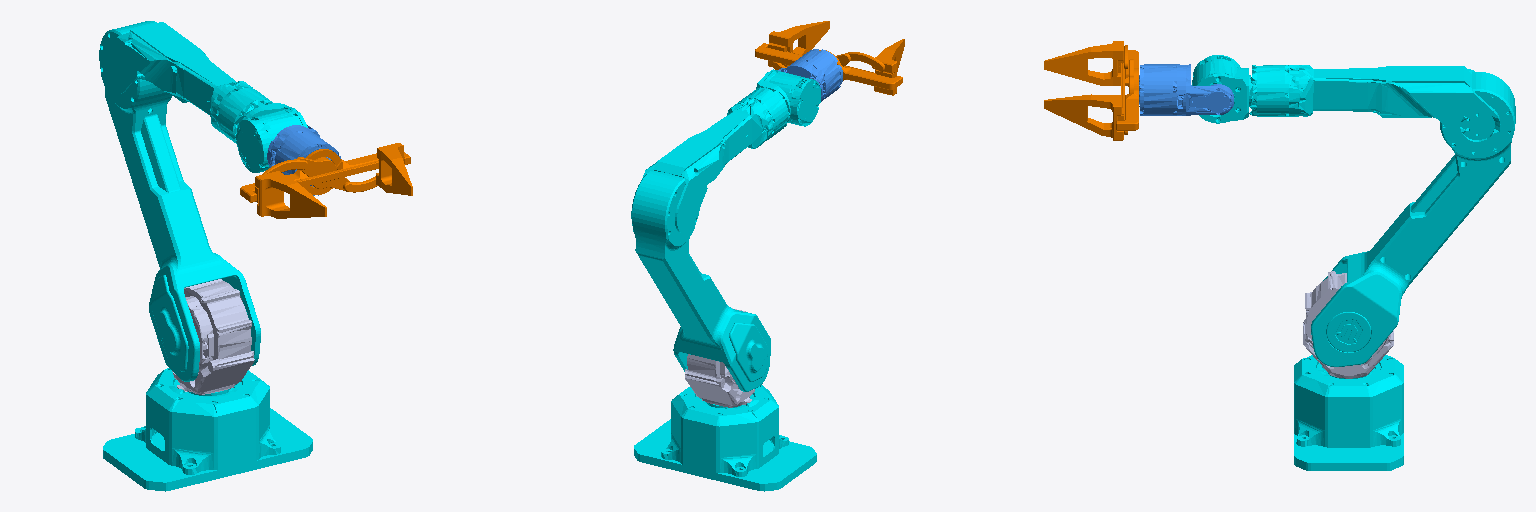
The robot description file, URDF, robot "URDF_armv001_a3tip":
<?xml version="1.0" encoding="utf-8"?>
<!--
  ============================================================================
  URDF_armv001_a3tip —— 自研六轴臂 + EDULITE_A3 末端（一体化末端）
  ============================================================================
  来源
  ────
  臂本体： F:\Robot\URDF_robot\DeepDiaryRos\src\URDF_armv001\urdf\URDF_armv001.urdf
          （SolidWorks 导出，原文件保持不动，本文件是它的本地副本）
  末端：   F:\Robot\URDF_robot\EDULITE_A3\el_a3_sdk\resources\urdf\el_a3.urdf

  实机结构（本文件的建模依据）
  ────────────────────────────
  实机 = 5 个臂关节 + 1 个夹爪，共 6 个电机，末端到 fifth_Link 为止：
    ID1 base_link → ID2 first_Link → ID3 second_Link
    → ID4 third_Link → ID5 fourth_Link → ID6 夹爪(第五轴上挂 EL05 总成 + jaw)

  为什么要改
  ──────────
  1. 原 URDF 有 6 个 revolute 关节，其中 `sixth_joint`（±3.14 rad 的"腕部旋转"）
     在实机上**没有对应电机**，属于多余自由度，会让 joint_map 无法唯一确定。
  2. 首版替换把 A3 末端拆成 `fifth_Link` + `a3_l6_motor` + `a3_gripper_jaw`
     三个体块，渲染出来末端会看到 3 个"电机"（绿=fifth_Link、红=EL05 圆柱、
     橙=夹爪），比实机多 2 个。

  改了什么（2026-09-29 第二次修正：末端只留"6 号电机"）
  ──────────────────────────────────────────────────
  · 删除 `sixth_joint` / `sixth_Link`（实机无此自由度）
  · 删除 `a3_l6_motor` link（渲染里的红色 EL05 圆柱，"7 号电机"）与其 fixed 关节
    `tip_mount_joint`
  · 删除 `a3_gripper_jaw` link（"8 号电机"）与其 fixed 关节 `a3_gripper_joint`
  · **保留 `fifth_Link`**（"6 号电机"，实机 ID5 腕部机体）：它仍是本 URDF 的末端
    link，`fifth_joint` 的 child 就是它，origin/axis/limit 与原始 URDF 完全一致
  · 夹爪几何 `jaw.stl` 并入 `fifth_Link`，作为本 link 的第二个 visual/collision：
    由原厂装配位置沿 −Y 平移 0.106 m（即被删掉的 EL05 圆柱长度），
    直接贴在腕部机体末端，视觉上连续、不再悬空
  · `fifth_Link` 的惯性 = 原 fifth_Link(0.37 kg) + EL05 电机(0.657292 kg)
    + 夹爪(0.05 kg) 的合并值（并行轴定理），合计 1.077292 kg
  · 末尾补一个**无 mesh、无质量**的隐藏 link `tool_tcp`（`fifth_Link` 下、fixed
    关节）：它只为笛卡尔逆解提供一个工具坐标系，渲染里不出现、不增加任何机体

  ⚠️ 已知近似
  ──────────
  · EL05 末端电机那 0.657 kg **仍计入质量**：实机上它是 ID6 夹爪的驱动电机、
    确实存在，这里只删掉它的渲染网格；若连质量一起删，ID3/ID5 的重力前馈
    会严重低估。
  · 夹爪开合（ID6）不建模：开合对 ID2/ID3 的重力力矩影响 ≤0.06 N·m，
    且 ID6 不参与重力补偿映射。
  · 末端相机、线缆、紧固件的质量仍**未计入**，真实 ID3 重力需求可能比本文件更大。
  · URDF 惯量是厂商标称理论值 + 合并近似，最终必须用 `arm_control.gravity` 的
    静态辨识（StaticGravityIdentifier）以实机力矩反馈重新标定。

  改了什么（2026-10-11 第三次修正：ID2→ID3 机体换真实 arm_v002b）
  ──────────────────────────────────────────────────────────────
  来源：f:\Robot\岳强机械臂装配体1.STEP（STEPCAFControl 组件树解析，cad env）。
  旧 URDF 把 ID2→ID3 之间的机体理想化了，与真实装配不符；现按真实支架修正：

  · 几何实测（arm_v002b 局部系，两关节孔均沿局部 Z、孔簇与全局轴线重合 ≤0.002mm）：
      - ID2 孔轴过局部 (−280,−35)、ID3 孔轴过局部 (0,0)；
      - ID2→ID3 垂距 D = 282.179 mm（旧 URDF 306.71 mm，差 −24.5 mm）；
      - 折叠位（q2=+1.491, q3=−1.084，其余 0）实测 TCP z≈0.135~0.142，
        拟合得 ID2→ID3 向量仰角 α = 30.0°（旧 32.76°）——设计圆整值与实测互证。
  · `third_joint` origin：xyz 由 (0, 0.165990, 0.257914) 改为
    (0, 0.141086, 0.244377)；rpy=0、axis=(−1,0,0) **保持不变**（两孔轴平行，
    与原 axis 一致）。
  · `second_Link` visual/collision 换为真实支架网格 `arm_v002b.stl`
    （12647 面，单位 m，v002b 局部坐标系）；visual origin 把 ID2 孔轴对到
    link 转轴（x 轴）、ID3 孔对到 third_joint 原点。
  · **惯性未动**：mass/CoM 仍为旧值 0.966 kg——真实件为 v002+v002b 对板
    （合计 258 cm³），材质未确认，留待 α 重辨识吸收/复核。
  · 关节链拓扑、其余关节、tool_tcp 保持不变。

  改了什么（2026-10-11 第三次修正补充：second_Link 换四零件整体网格）
  ──────────────────────────────────────────────────────────────
  用户更正：ID2→ID3 之间的第二关节臂由 4 个零件组成一个整体
  （① 一轴轴承盖 ② arm_v002b ③ arm_v002 ④ 二轴螺钉盖2），
  之前只导出 arm_v002b 单件做 mesh 是错的。已按 BOM 从 STEP 重新导出
  `second_arm_asm.stl`（四件统一到 v002b 局部系合成 compound，41047 面、
  米制）；装配态复测 D = 282.1790mm 与单件一致 → third_joint origin 与
  second_Link visual origin 的 xyz/rpy 全部不变，仅 mesh 文件名更换。
  详见 second_Link 处注释。

  ⚠️ 后果（必做后续）：① 重力 α 必须再次重辨识（sign_identify 的 record 与
  solve 两步，只取 scale）；② m0 锚点需用折叠位 FK 复核；③ 软限位表如需调整单独立项。
  ============================================================================

  本文件只需惯性信息即可被 Pinocchio 加载；visual/collision 仅为可读性保留。
  ============================================================================
-->
<robot
  name="URDF_armv001_a3tip">
  <link
    name="base_link">
    <inertial>
      <origin
        xyz="0.00012503 1.4745E-05 0.026752"
        rpy="0 0 0" />
      <mass
        value="1.81" />
      <inertia
        ixx="0.00055145"
        ixy="1.5556E-06"
        ixz="1.4779E-06"
        iyy="0.0010327"
        iyz="8.2802E-08"
        izz="0.0014616" />
    </inertial>
    <visual>
      <origin
        xyz="0 0 0"
        rpy="0 0 0" />
      <geometry>
        <mesh
          filename="meshes/base_link.STL" />
      </geometry>
      <material
        name="">
        <color
          rgba="0 0.94118 0.98824 1" />
      </material>
    </visual>
    <collision>
      <origin
        xyz="0 0 0"
        rpy="0 0 0" />
      <geometry>
        <mesh
          filename="meshes/base_link.STL" />
      </geometry>
    </collision>
  </link>
  <link
    name="first_Link">
    <inertial>
      <origin
        xyz="0.0019709 -3.7688E-05 0.045814"
        rpy="0 0 0" />
      <mass
        value="1.05" />
      <inertia
        ixx="0.00020197"
        ixy="-1.66E-08"
        ixz="2.2663E-07"
        iyy="0.0001125"
        iyz="7.8462E-08"
        izz="0.0001431" />
    </inertial>
    <visual>
      <origin
        xyz="0 0 0"
        rpy="0 0 0" />
      <geometry>
        <mesh
          filename="meshes/first_Link.STL" />
      </geometry>
      <material
        name="">
        <color
          rgba="0.79216 0.81961 0.93333 1" />
      </material>
    </visual>
    <collision>
      <origin
        xyz="0 0 0"
        rpy="0 0 0" />
      <geometry>
        <mesh
          filename="meshes/first_Link.STL" />
      </geometry>
    </collision>
  </link>
  <joint
    name="first_joint"
    type="revolute">
    <origin
      xyz="0 0 0.0785000000000001"
      rpy="0 0 0" />
    <parent
      link="base_link" />
    <child
      link="first_Link" />
    <axis
      xyz="0 0 1" />
    <limit
      lower="-3.14"
      upper="3.14"
      effort="160"
      velocity="20.417" />
  </joint>
  <link
    name="second_Link">
    <inertial>
      <!-- 2026-10-11：惯性保留旧值（0.966 kg，旧支架标称）；真实件为
           arm_v002+v002b 对板（合计 258 cm³），材质未确认——质量/CoM 的修正
           由重力 α 重辨识（StaticGravityIdentifier）吸收，勿在此手工乱改。 -->
      <origin
        xyz="0.000857573444558835 0.0776042459103315 0.130616624503666"
        rpy="0 0 0" />
      <mass
        value="0.966" />
      <inertia
        ixx="0.00246169175712987"
        ixy="7.15160471159471E-06"
        ixz="1.14970999493612E-05"
        iyy="0.00149301141014258"
        iyz="-0.00107551298210178"
        izz="0.0010159642390867" />
    </inertial>
    <!-- 2026-10-11：几何换真实支架四零件整体 second_arm_asm（STEP 实测）。
         来源：f:\Robot\岳强机械臂装配体1.STEP，ID2→ID3 之间的第二关节臂由
         4 个零件组成一个整体（PRODUCT 名自 STEP 解码验证）：
           ① 一轴轴承盖（NAUO26，贴合 v002b 板底面、ID2 轴负向侧）
           ② arm_v002b（NAUO6，基准板：ID3 孔轴过局部 (0,0)、ID2 过 (−280,−35)）
           ③ arm_v002（NAUO5，与 v002b 对扣的上板）
           ④ 二轴螺钉盖2（NAUO28，孔与 ID2 轴同轴 ≤0.0001mm，轴向 +58mm 处）
         四件统一到 v002b 局部系后合成 compound 导出（41047 三角形、米制）；
         装配态复测 ID2/ID3 孔轴垂距 D = 282.1790mm（与单件 v002b 一致，
         偏差 +0.0000mm）。
         visual origin 的作用：把 v002b 局部系的 ID2 孔轴（过局部 (−280,−35)、
         沿局部 Z）对到本 link 的转轴（x 轴），同时把 ID3 孔轴（过局部 (0,0)）
         对到 third_joint 原点——因此 xyz 的 yz 分量恰等于 third_joint origin
         的 (y3,z3)，rpy 为孔轴→x 轴 + 折叠位拟合仰角 30° 的合成旋转。
         换四件整体网格后按同法数值复算：rpy=(1.570796, −0.922858, 1.570796)、
         ID3→(0, 0.141086, 0.244377)，径向标定不变。
         2026-10-12 轴向修正（方案 A，用户确认）：v002b 零件原点的 local z=0
         无物理意义，孔相对 URDF 转轴整体沿轴向偏了约 +20mm，查看器里两头
         电机与夹板之间出现间隙。CAD 实测（四件装配态，v002b 局部系）：
         主电机巢中点 ID2=+19.55（r56.95 壁 z −13.25~+52.36）、ID3=+18.5；
         真实电机本体中点 RS03=+19.7、RS02=+21.3（RS02 顶肩定位、设计上
         本就不在孔跨中点）；原 URDF 的三明治网格（second_Link.STL ±35、
         first_Link/third_Link 电机 ±29~±30）均关于关节原点对称，即原约定
         是「电机三明治中心 = 关节原点」。取 s = −0.020（xyz 的 x 分量）：
         RS03 偏 −0.3mm、RS02 偏 +1.3mm、ID2 主巢偏 −0.45mm，两站全部
         ≤1.3mm 居中，复现原约定。注意两孔全跨度中点不相等（ID2 +20.5 /
         ID3 +17.0，被底部工艺孔与顶部沉孔拉偏），不能按单一孔跨中点取值。 -->
    <visual>
      <origin
        xyz="-0.020 0.141086 0.244377"
        rpy="1.570796 -0.922858 1.570796" />
      <geometry>
        <mesh
          filename="meshes/second_arm_asm.stl" />
      </geometry>
      <material
        name="">
        <color
          rgba="0 0.941176470588235 0.988235294117647 1" />
      </material>
    </visual>
    <collision>
      <origin
        xyz="-0.020 0.141086 0.244377"
        rpy="1.570796 -0.922858 1.570796" />
      <geometry>
        <mesh
          filename="meshes/second_arm_asm.stl" />
      </geometry>
    </collision>
  </link>
  <joint
    name="second_joint"
    type="revolute">
    <origin
      xyz="0 0 0.0614999999999968"
      rpy="0 0 0" />
    <parent
      link="first_Link" />
    <child
      link="second_Link" />
    <axis
      xyz="-1 0 0" />
    <limit
      lower="-2.15"
      upper="1.26"
      effort="60"
      velocity="20.4165" />
  </joint>
  <link
    name="third_Link">
    <inertial>
      <origin
        xyz="0.00167558365991412 -0.116252462462107 0.0252492816668452"
        rpy="0 0 0" />
      <mass
        value="0.69" />
      <inertia
        ixx="0.000582679607750313"
        ixy="-1.4662142928383E-05"
        ixz="1.94509615851066E-06"
        iyy="7.33395566734886E-05"
        iyz="4.46085226928446E-05"
        izz="0.000553919549010076" />
    </inertial>
    <visual>
      <origin
        xyz="0 0 0"
        rpy="0 0 0" />
      <geometry>
        <mesh
          filename="meshes/third_Link.STL" />
      </geometry>
      <material
        name="">
        <color
          rgba="0 0.941176470588235 0.988235294117647 1" />
      </material>
    </visual>
    <collision>
      <origin
        xyz="0 0 0"
        rpy="0 0 0" />
      <geometry>
        <mesh
          filename="meshes/third_Link.STL" />
      </geometry>
    </collision>
  </link>
  <joint
    name="third_joint"
    type="revolute">
    <!-- 2026-10-11：origin 按真实支架 arm_v002b 修正。
         旧值 (0, 0.165989898732231, 0.257913780286487)（D=306.71mm, α=32.76°）
         → 新值 (0, 0.141086, 0.244377)（D=282.179mm CAD 实测，
         α=30.0° 由折叠位 q2=+1.491/q3=−1.084 实测 z≈0.135~0.142 拟合）。
         axis 保持 (−1,0,0)：CAD 两孔轴平行、与 ID2 轴同向，无需改。 -->
    <origin
      xyz="0 0.141086 0.244377"
      rpy="0 0 0" />
    <parent
      link="second_Link" />
    <child
      link="third_Link" />
    <axis
      xyz="-1 0 0" />
    <limit
      lower="-0.75"
      upper="2.38"
      effort="17"
      velocity="32.9805" />
  </joint>
  <link
    name="fourth_Link">
    <inertial>
      <origin
        xyz="3.0956E-05 -0.027807 -7.0032E-05"
        rpy="0 0 0" />
      <mass
        value="0.37" />
      <inertia
        ixx="3.2899E-05"
        ixy="2.5288E-06"
        ixz="-2.3777E-08"
        iyy="2.1257E-05"
        iyz="1.4904E-07"
        izz="2.1529E-05" />
    </inertial>
    <visual>
      <origin
        xyz="0 0 0"
        rpy="0 0 0" />
      <geometry>
        <mesh
          filename="meshes/fourth_Link.STL" />
      </geometry>
      <material
        name="">
        <color
          rgba="0 0.94118 0.98824 1" />
      </material>
    </visual>
    <collision>
      <origin
        xyz="0 0 0"
        rpy="0 0 0" />
      <geometry>
        <mesh
          filename="meshes/fourth_Link.STL" />
      </geometry>
    </collision>
  </link>
  <joint
    name="fourth_joint"
    type="revolute">
    <origin
      xyz="0 -0.247999999999997 0.0289999999999987"
      rpy="0 0 0" />
    <parent
      link="third_Link" />
    <child
      link="fourth_Link" />
    <axis
      xyz="0 1 0" />
    <limit
      lower="-3.14"
      upper="3.14"
      effort="14"
      velocity="32.9805" />
  </joint>
  <!-- ======================================================================
       第五轴（ID5）：fifth_Link —— 实机 ID5 腕部机体（渲染里的"6 号电机"）。
       A3 的 EL05 电机 + 夹爪与它刚性一体，本文件只保留第五轴这一个末端 link。
       ====================================================================== -->
  <link
    name="fifth_Link">
    <inertial>
      <!-- 合并惯量 = 原 fifth_Link(0.37) + 原 a3_l6_motor(0.657292)
           + 原 a3_gripper_jaw(0.05)，以本 link 的坐标系为基准（并行轴定理） -->
      <origin
        xyz="0.000379122 -0.034707921 -0.000140295"
        rpy="0 0 0" />
      <mass
        value="1.077292" />
      <inertia
        ixx="0.002524054"
        ixy="0.000018047"
        ixz="-0.000014035"
        iyy="0.000745614"
        iyz="0.000007687"
        izz="0.002976356" />
    </inertial>
    <!-- 本体（原 fifth_Link.STL） -->
    <visual>
      <origin
        xyz="0 0 0"
        rpy="0 0 0" />
      <geometry>
        <mesh
          filename="meshes/fifth_Link.STL" />
      </geometry>
      <material
        name="">
        <color
          rgba="0.317647058823529 0.635294117647059 1 1" />
      </material>
    </visual>
    <collision>
      <origin
        xyz="0 0 0"
        rpy="0 0 0" />
      <geometry>
        <mesh
          filename="meshes/fifth_Link.STL" />
      </geometry>
    </collision>
    <!-- 夹爪（原厂 jaw.stl。在 el_a3.urdf 里它与 el05_l6.stl 同挂 l5_l6_urdf_asm、
         同一 visual origin，轴向 z∈[-0.2095,-0.106] 紧接电机 z∈[-0.106,0]）：
         本文件删掉 EL05 电机那段（长 0.106 m）后，把夹爪直接贴到腕部机体末端——
         xyz = 原位置 (-0.001,-0.1625,0) 沿 -Y 平移 0.106 → (-0.001,-0.0565,0)，
         rpy 仍取 +1.5708（A3 的 +Z 已旋到本臂 +Y，见上方第五轴说明）。 -->
    <visual>
      <origin
        xyz="-0.001 -0.0565 0"
        rpy="1.5708 0 0" />
      <geometry>
        <mesh
          filename="meshes/jaw.stl" />
      </geometry>
      <material
        name="orange">
        <color
          rgba="0.972549 0.529412 0.00392157 1" />
      </material>
    </visual>
    <collision>
      <origin
        xyz="-0.001 -0.0565 0"
        rpy="1.5708 0 0" />
      <geometry>
        <mesh
          filename="meshes/jaw.stl" />
      </geometry>
    </collision>
  </link>
  <joint
    name="fifth_joint"
    type="revolute">
    <!-- 与原始 URDF 完全一致：ID5 的安装点、转轴、限位都没动 -->
    <origin
      xyz="0 -0.036 0"
      rpy="0 0 0" />
    <parent
      link="fourth_Link" />
    <child
      link="fifth_Link" />
    <axis
      xyz="-1 0 0" />
    <limit
      lower="-1.57"
      upper="1.57"
      effort="14"
      velocity="32.9805" />
  </joint>
  <!-- ======================================================================
       工具坐标系 `tool_tcp` —— **无 mesh、无质量**的纯参考系，渲染不可见。
       为什么要它：笛卡尔逆解需要一个"工具点"，而 URDF 里只有 link / 关节能给出
       坐标系。若直接拿 `fifth_Link` 当工具点，它的原点正好落在第五轴转轴上
       （且与第四轴轴线共面），于是"第四轴转、工具点却几乎不动、转角又不落在
       任务所测的自转/俯仰两轴上"——任务雅可比在零位降秩，σ_min=0，进门门禁
       会永远拒绝切进笛卡尔模式（arm_web 自检实测 8 项失败）。
       这里复刻 v1.0.4 所用工具点（A 案 `a3_gripper_jaw` 帧）相对第五轴的位姿：
       xyz=(-0.001, +0.049, 0)、rpy=(-1.5708, 0, 0) —— 笛卡尔遥操作的行为与
       v1.0.4 完全一致，不引入任何未要求的变化。
       ====================================================================== -->
  <link
    name="tool_tcp" />
  <joint
    name="tool_tcp_joint"
    type="fixed">
    <origin
      xyz="-0.001 0.049 0"
      rpy="-1.5708 0 0" />
    <parent
      link="fifth_Link" />
    <child
      link="tool_tcp" />
  </joint>
</robot>

--- What the picture shows (computed from the rendered views, not written in the file) ---
The picture shows the robot from 3 angles, left to right: view 1: azimuth 30°, elevation 25°; view 2: azimuth 150°, elevation 25°; view 3: azimuth 270°, elevation 25°; orthographic projection.
Model URDF_armv001_a3tip with 7 links and 6 joints (5 revolute, 1 fixed), rooted at base_link, posed every joint at zero.
Visible links, largest first — view 1: second_Link, base_link, fifth_Link, third_Link, first_Link, fourth_Link; view 2: second_Link, base_link, third_Link, fifth_Link, first_Link, fourth_Link; view 3: second_Link, third_Link, base_link, fifth_Link, fourth_Link, first_Link.
Link boxes in pixels (x1,y1,x2,y2): second_Link: (99,21,260,381); base_link: (103,368,312,491); fifth_Link: (240,125,412,218); third_Link: (102,22,272,143); first_Link: (172,279,254,394); fourth_Link: (236,103,307,172); second_Link: (631,170,770,391); base_link: (634,385,816,491); third_Link: (642,87,789,232); fifth_Link: (755,21,904,101); first_Link: (685,308,754,407); fourth_Link: (756,69,820,126); second_Link: (1311,72,1515,366); third_Link: (1249,65,1499,146); base_link: (1294,355,1403,470); fifth_Link: (1044,41,1233,140); fourth_Link: (1192,55,1250,123); first_Link: (1303,271,1393,378).
Bounding box of the posed robot: 0.2 × 0.516 × 0.4424 m (x, y, z).
Meshes: 7 distinct files referenced, 7 mesh visuals loaded (7 binary STL).
